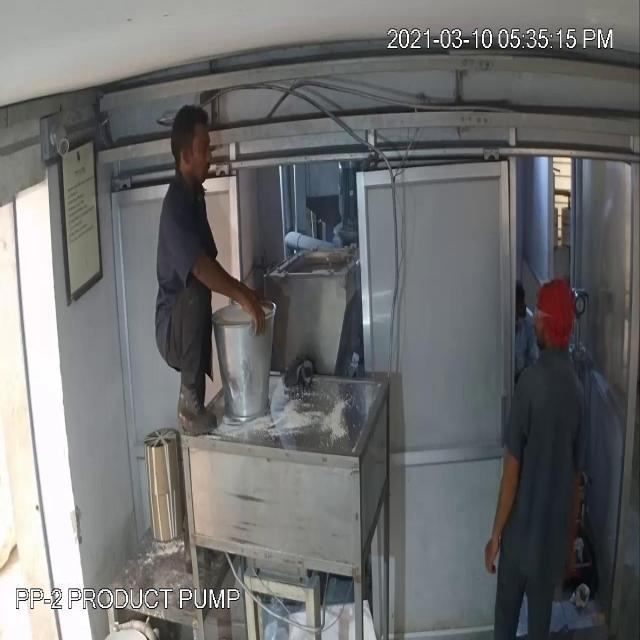No_Gloves: (56, 106, 495, 502)
